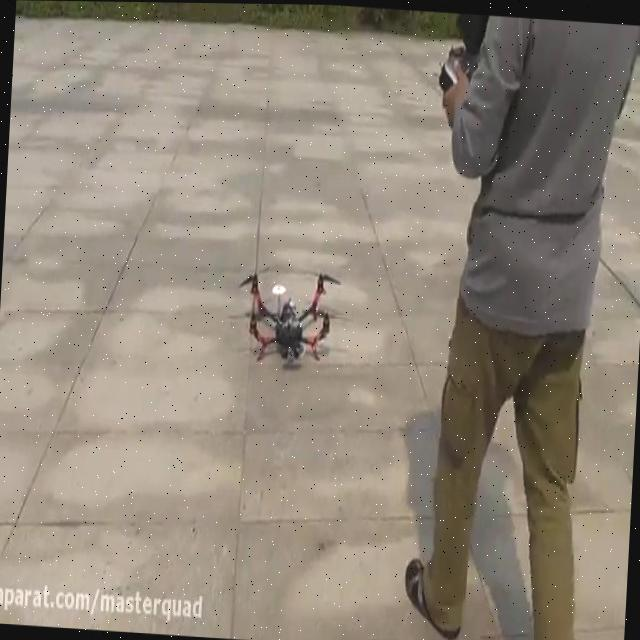drone: (231, 252, 353, 367)
